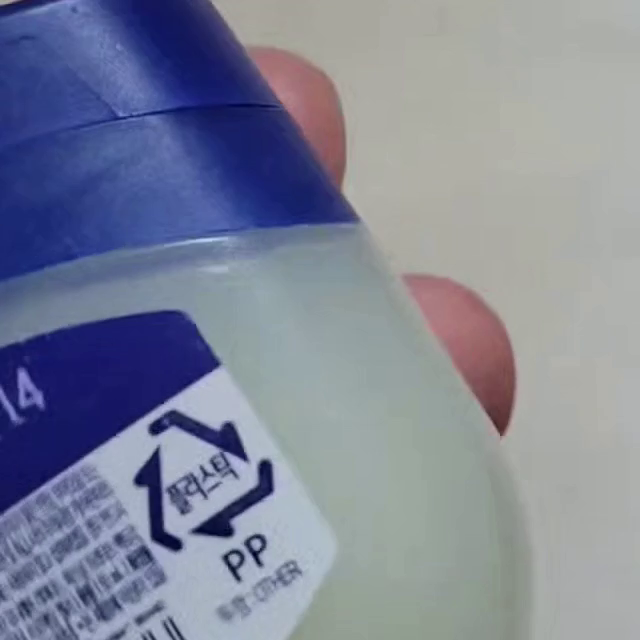Plastic: (132, 408, 275, 554)
